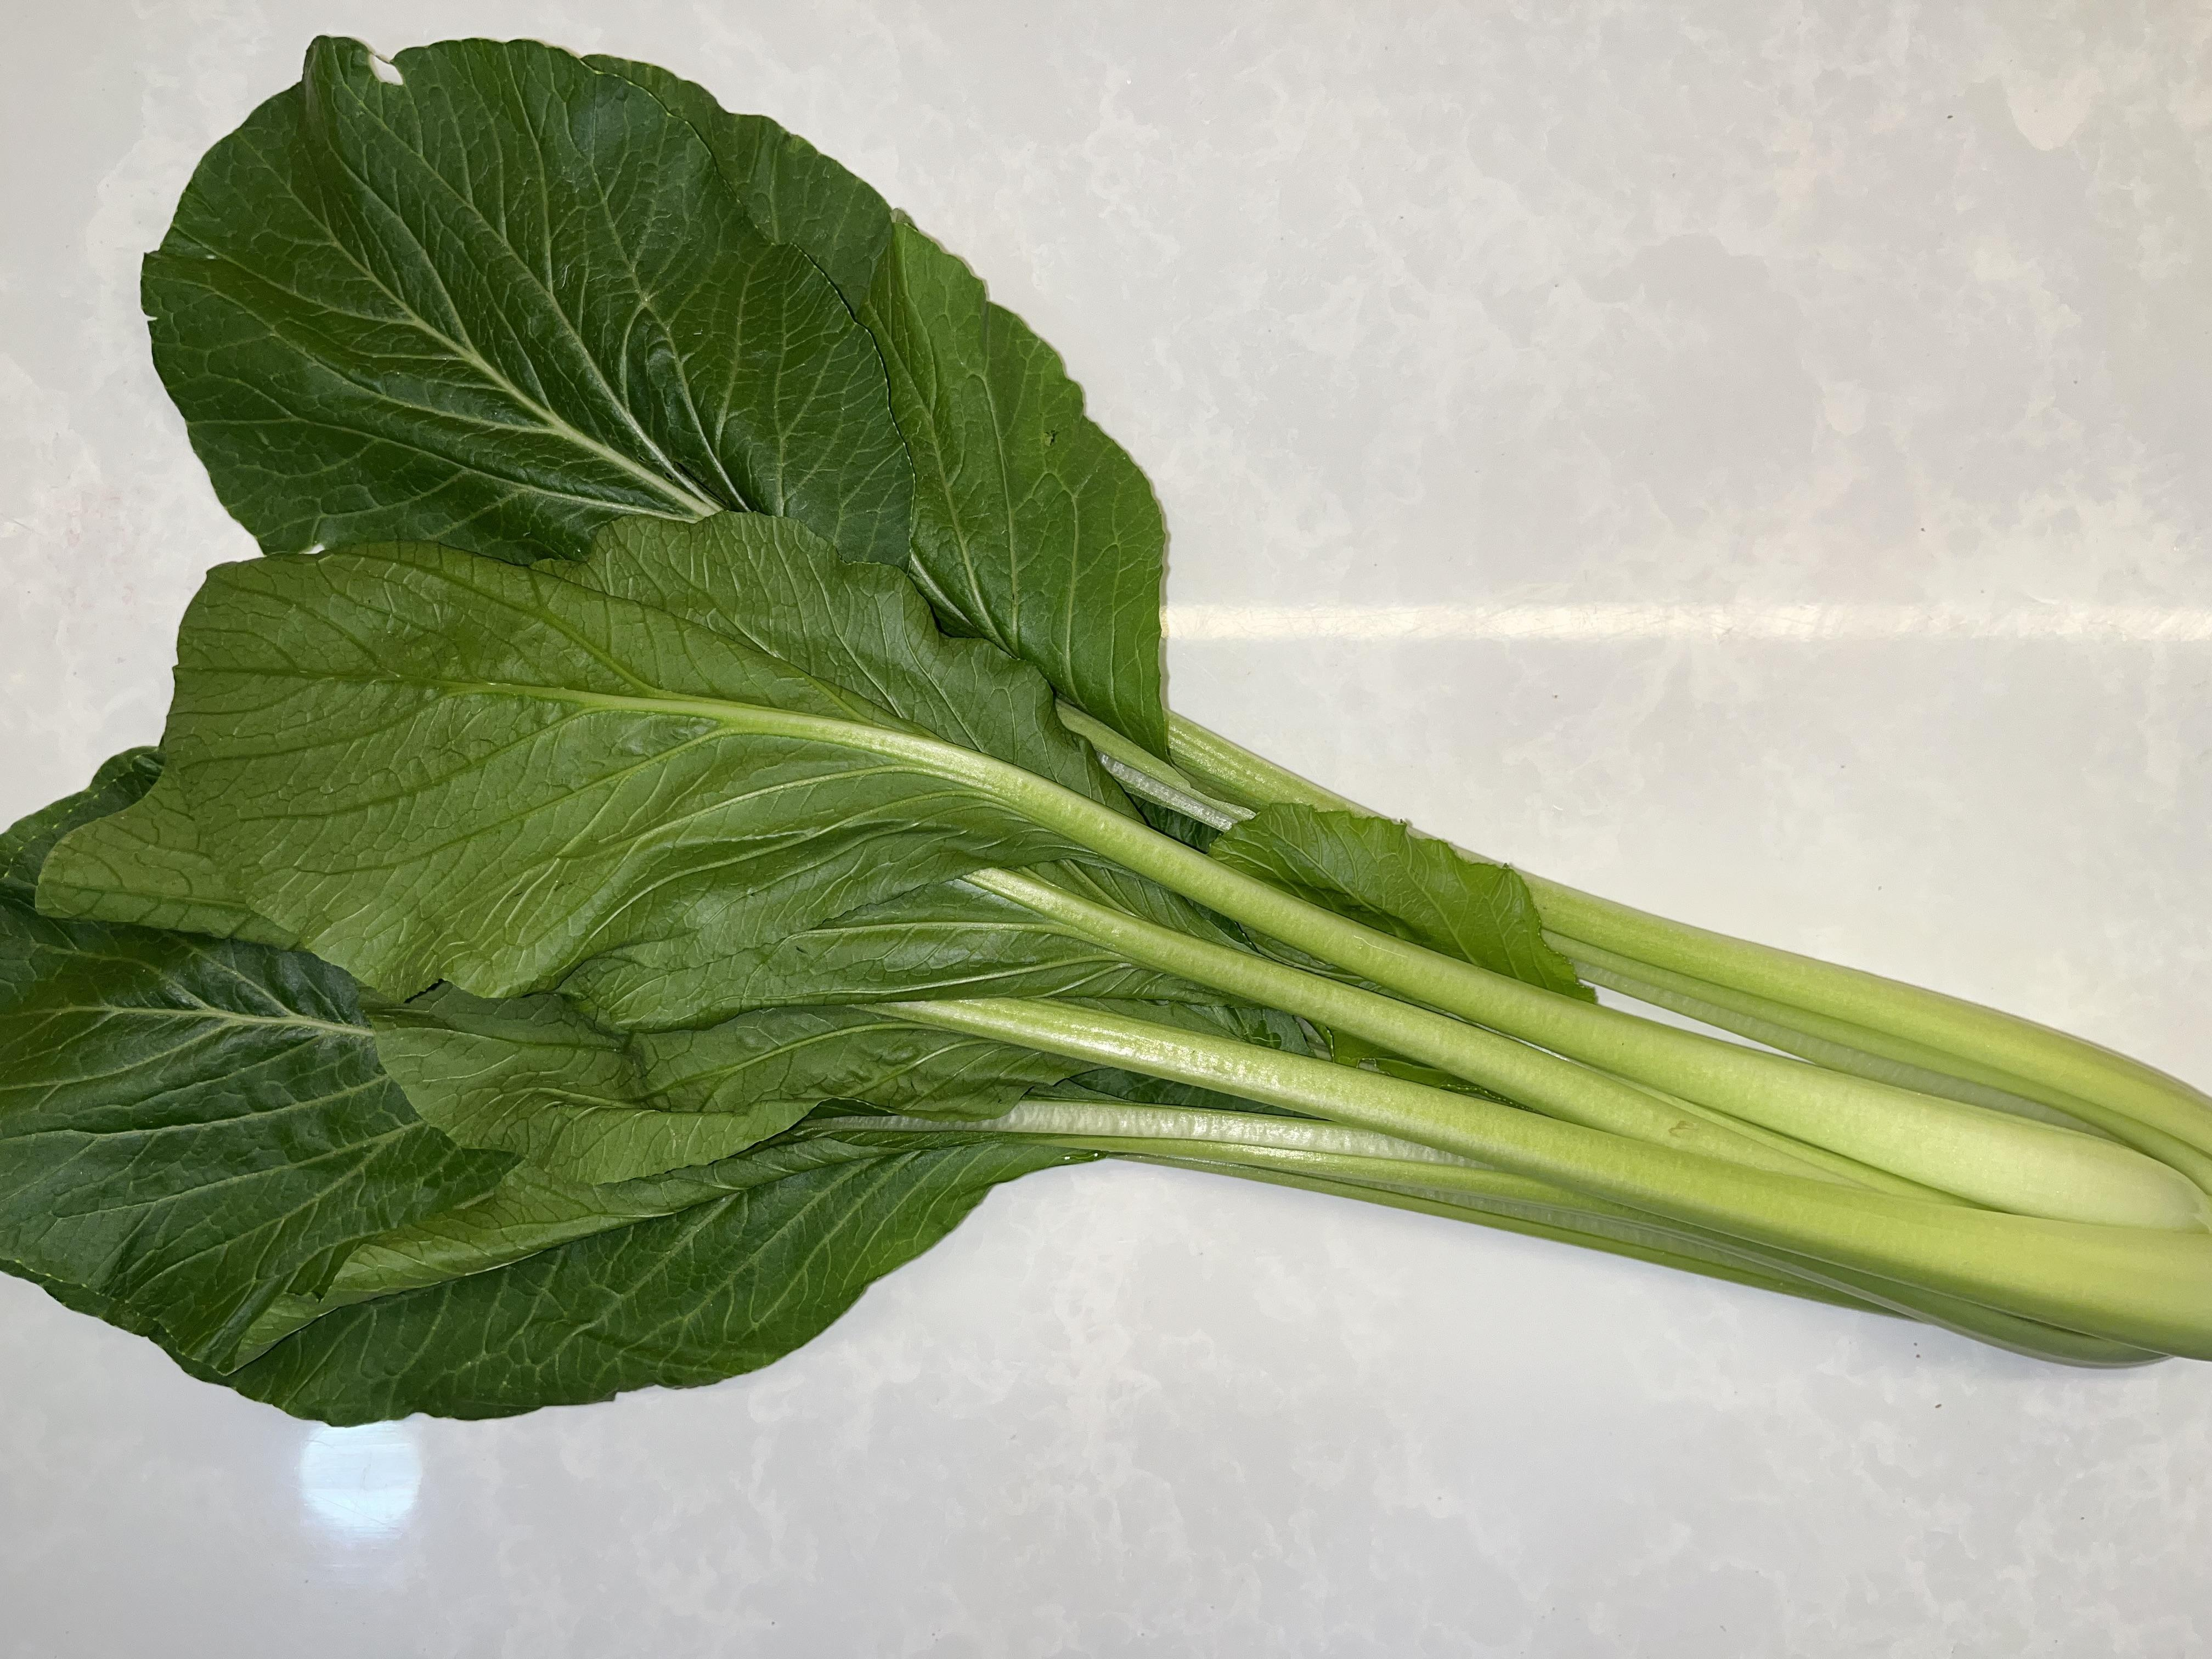Healthy-Pechay: (38, 138, 2107, 1328)
